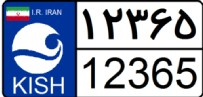character: (99, 53, 127, 93), (97, 3, 124, 43), (126, 52, 150, 95), (175, 53, 199, 95), (150, 52, 174, 93), (124, 3, 149, 42), (149, 4, 173, 44), (173, 5, 197, 43), (79, 6, 99, 44), (82, 54, 100, 93), (49, 74, 67, 95), (11, 73, 27, 96), (33, 75, 49, 97), (28, 74, 33, 97)
